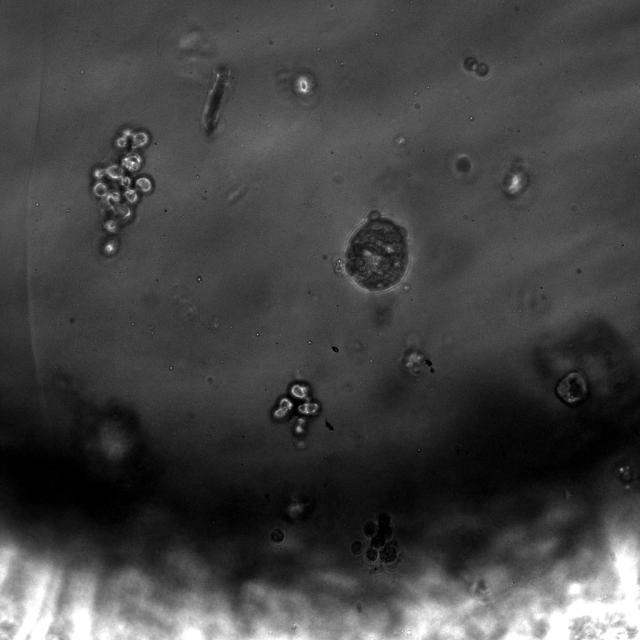organoid: (91, 128, 153, 257), (344, 210, 410, 292), (270, 380, 321, 437), (364, 514, 399, 570), (556, 371, 588, 405), (462, 54, 489, 78), (270, 529, 284, 543), (351, 540, 362, 555)
